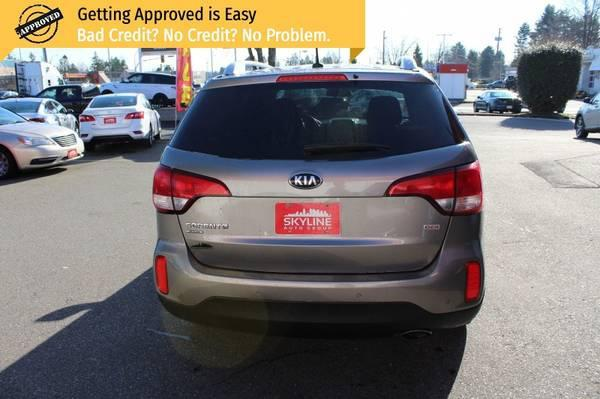Left_Taillight: (152, 167, 228, 218)
Rear_Bumper: (154, 212, 489, 329)
Rear_Windshield: (169, 81, 469, 162)
Right_Taillight: (385, 160, 481, 216)
Tailgate: (160, 142, 475, 275)
